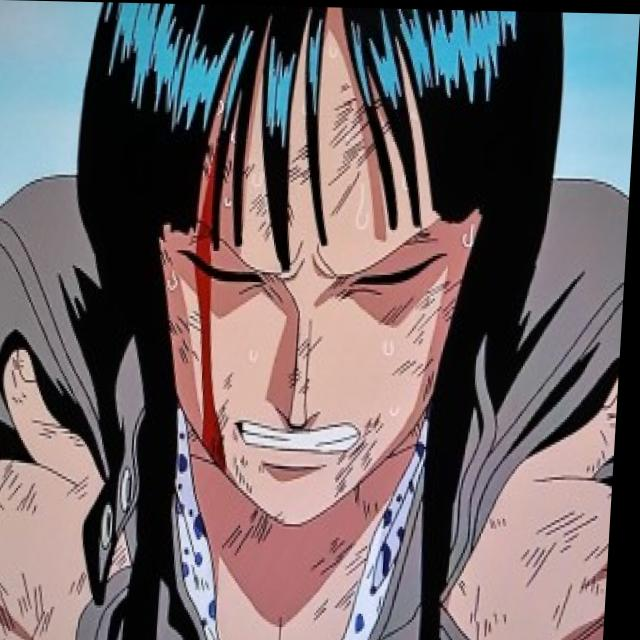NicoRobin: (45, 2, 576, 544)
